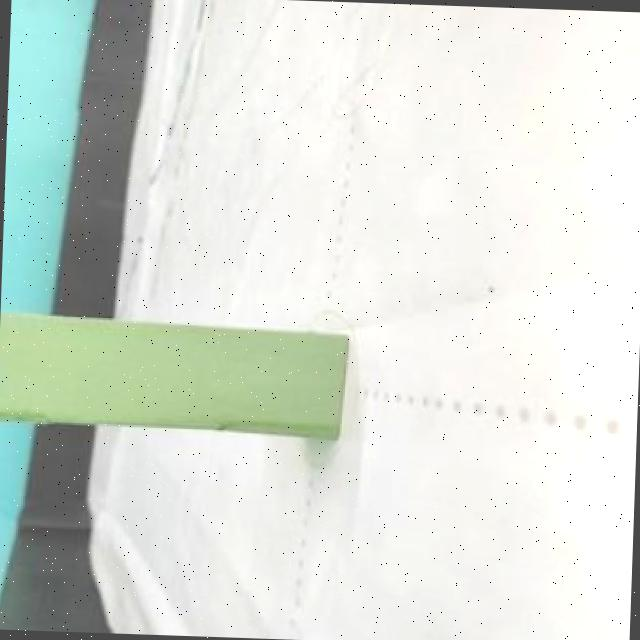greenbox: (0, 307, 349, 444)
